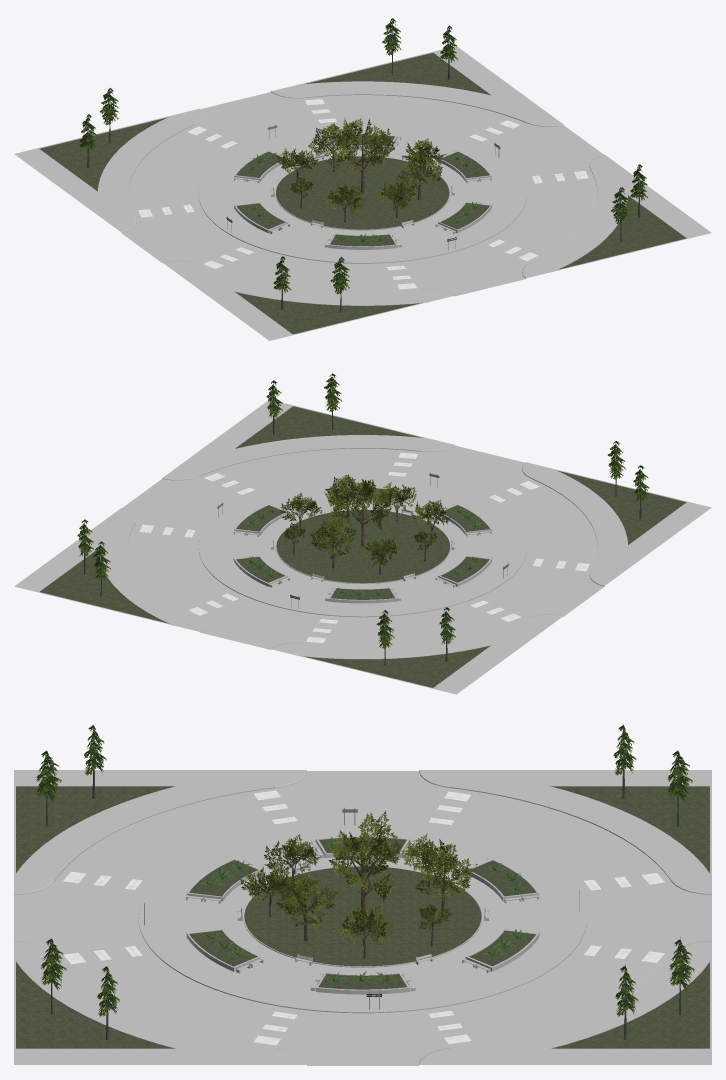
File: Street-Roundabout.fbx
3 renders of one model, top to bottom at view 1: azimuth 30°, elevation 25°; view 2: azimuth 150°, elevation 25°; view 3: azimuth 270°, elevation 25°, orthographic. The views are drawn at different scales.
Visible parts, largest first — view 1: Double-Block-04-B, Double-Block-04-Sidewalk-B, Trees, Road-Mark-B, Road-Mark-Rev-B; view 2: Double-Block-04-B, Double-Block-04-Sidewalk-B, Trees, Road-Mark-B, Road-Mark-Rev-B; view 3: Double-Block-04-B, Double-Block-04-Sidewalk-B, Trees, Road-Mark-B, Road-Mark-Rev-B.
Boxes of the visible parts, x1,y1,x2,y2 form: Double-Block-04-B: [14, 46, 711, 340]; Double-Block-04-Sidewalk-B: [97, 81, 628, 305]; Trees: [79, 18, 647, 312]; Road-Mark-B: [138, 99, 588, 289]; Road-Mark-Rev-B: [188, 120, 538, 268]; Double-Block-04-B: [14, 400, 711, 694]; Double-Block-04-Sidewalk-B: [97, 435, 628, 659]; Trees: [77, 373, 649, 665]; Road-Mark-B: [189, 472, 539, 621]; Road-Mark-Rev-B: [139, 452, 589, 642]; Double-Block-04-B: [14, 770, 711, 1065]; Double-Block-04-Sidewalk-B: [14, 770, 711, 1064]; Trees: [36, 724, 694, 1040]; Road-Mark-B: [63, 791, 664, 1045]; Road-Mark-Rev-B: [63, 790, 664, 1044].
Size of what is drawn, in the model's own units: 100 by 16.1 by 100.
